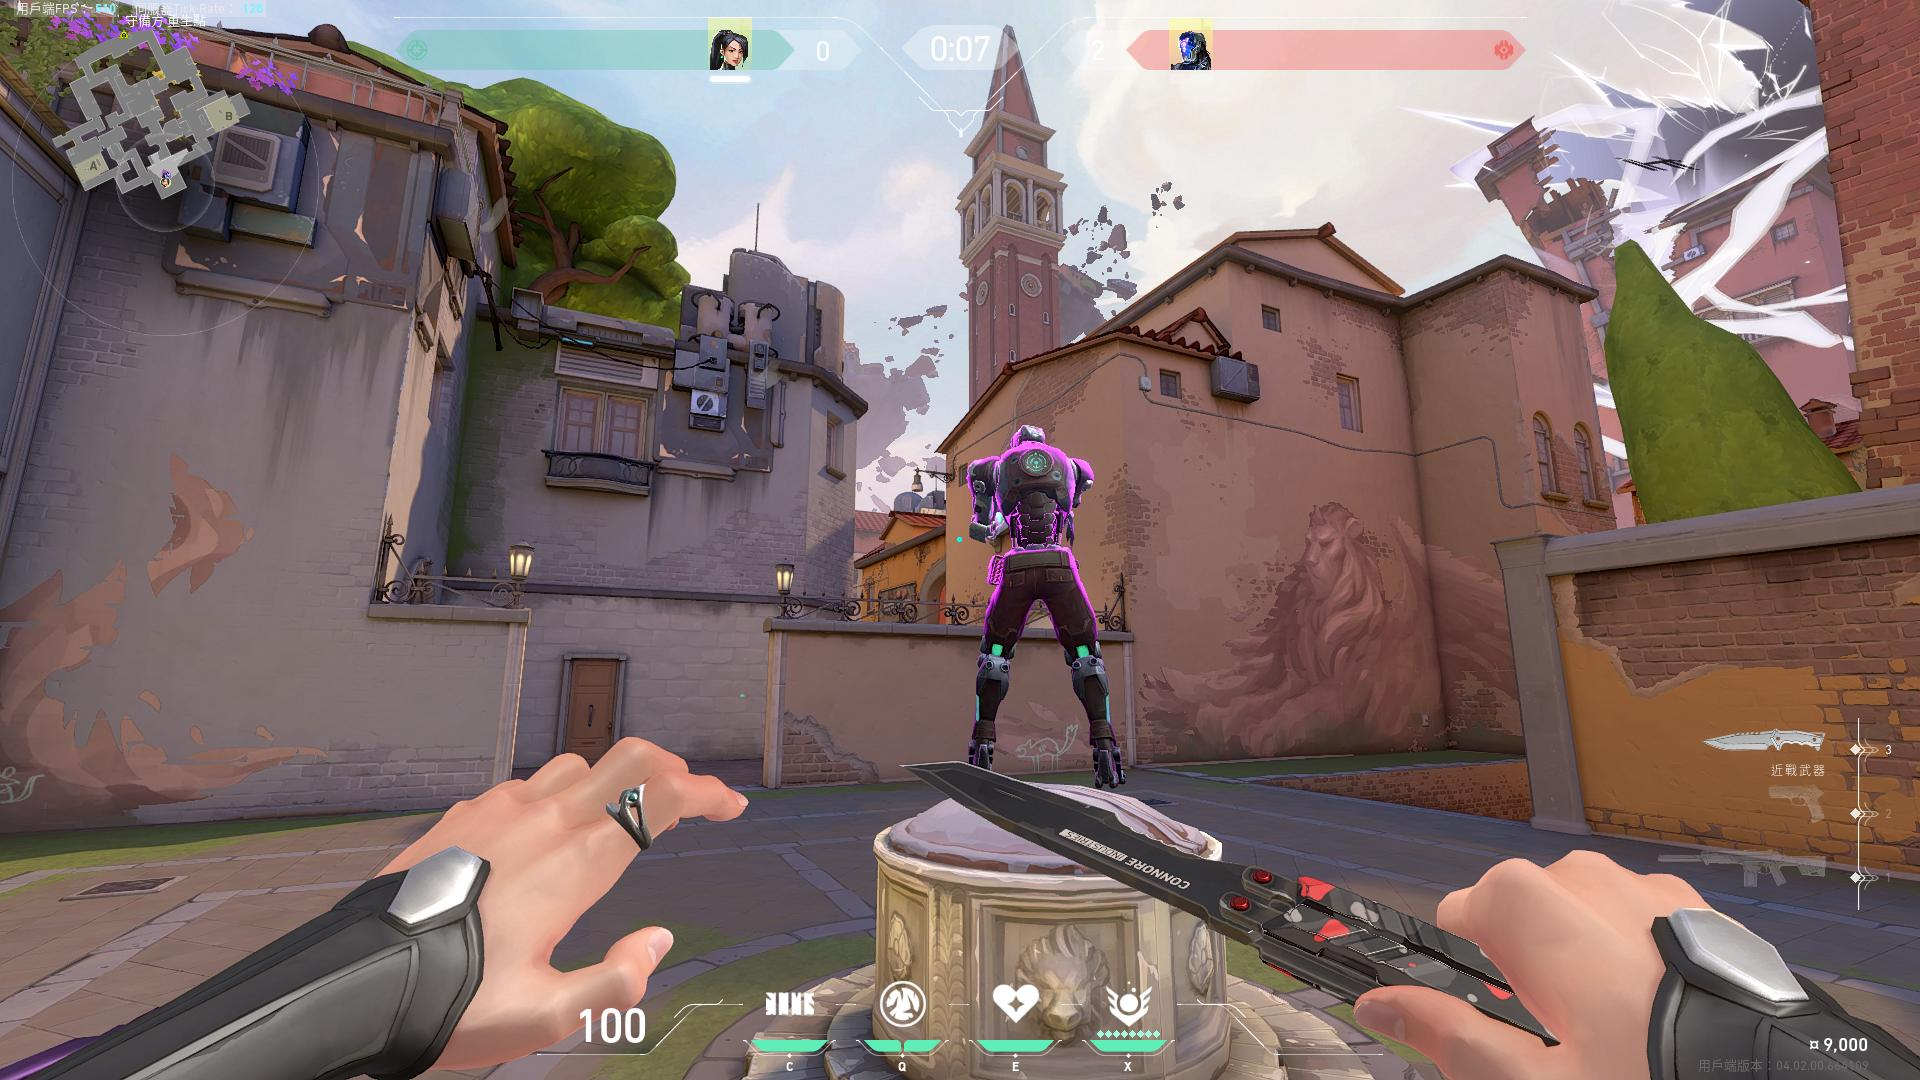enemyBody: (1005, 456, 1072, 535)
enemyHead: (1015, 429, 1038, 451)
